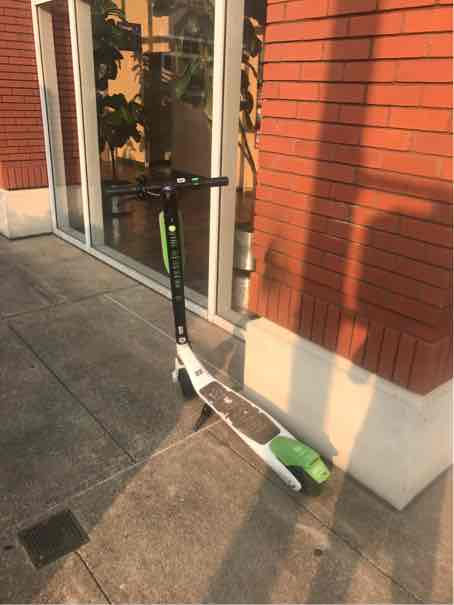scooter: (94, 156, 346, 501)
